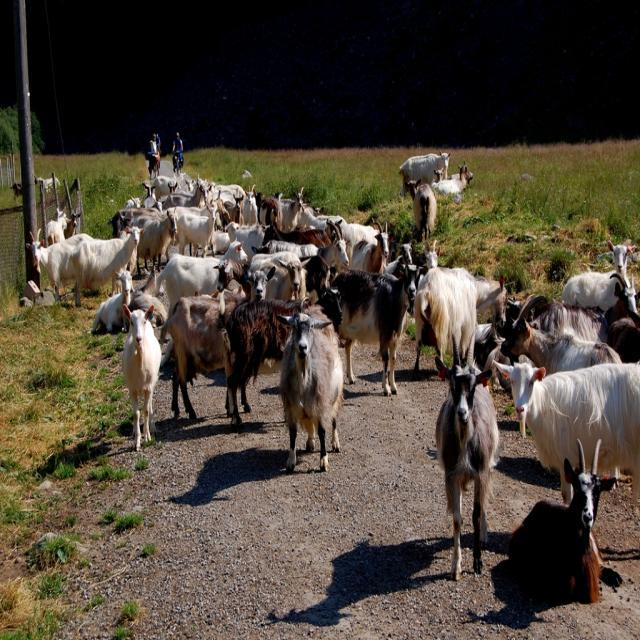Goat: (507, 437, 619, 604), (433, 330, 500, 581), (277, 307, 344, 473)
